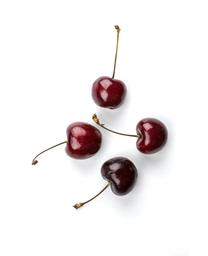cherry: (100, 156, 139, 197), (65, 122, 103, 161), (135, 117, 168, 156), (91, 76, 127, 110)
